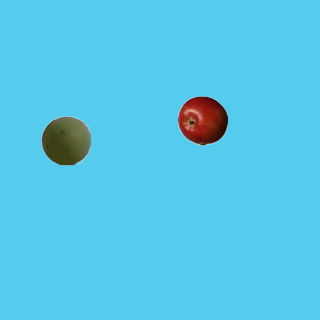Apple Braeburn: (177, 95, 227, 145)
Grape White 4: (40, 115, 90, 165)
